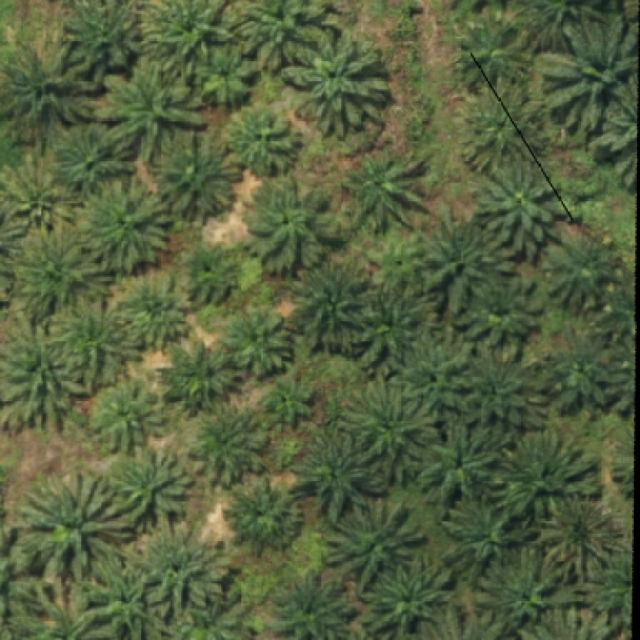Kelapa_Sawit: (16, 471, 135, 578), (94, 56, 209, 166), (338, 374, 448, 486), (282, 28, 391, 141), (130, 508, 233, 622), (242, 175, 349, 278), (0, 45, 100, 153), (321, 495, 430, 594), (425, 201, 517, 317), (496, 426, 602, 525), (11, 218, 114, 318), (42, 294, 144, 394), (455, 72, 553, 176), (290, 420, 388, 522), (418, 420, 513, 522), (472, 162, 566, 264), (441, 485, 534, 587), (76, 175, 172, 273), (453, 262, 545, 362), (284, 255, 373, 357), (455, 339, 553, 430), (357, 549, 455, 640), (537, 490, 628, 585), (350, 277, 442, 369), (340, 148, 434, 235), (152, 128, 239, 220), (454, 10, 540, 102), (537, 323, 620, 415), (189, 398, 271, 489), (386, 341, 474, 425), (154, 330, 238, 416), (542, 228, 622, 317), (110, 446, 196, 526), (112, 268, 192, 352), (62, 2, 141, 86), (52, 123, 137, 200), (224, 477, 302, 558), (2, 150, 82, 228), (87, 377, 167, 454), (227, 103, 304, 179), (224, 298, 296, 379), (366, 223, 432, 299), (192, 42, 260, 108), (181, 240, 239, 306), (261, 368, 317, 428)
